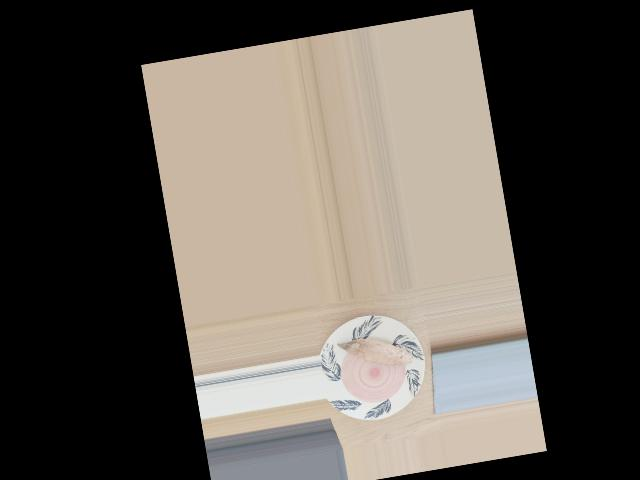sweet_potato: (344, 331, 409, 376)
